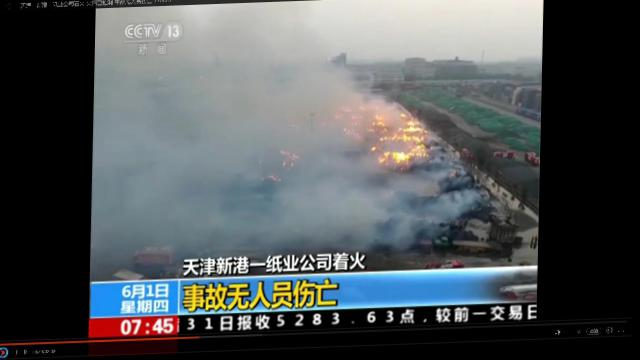fire: (390, 152, 410, 166), (412, 148, 426, 160), (380, 154, 390, 167), (403, 129, 422, 135), (395, 138, 413, 144), (413, 138, 420, 145), (406, 124, 413, 130), (378, 124, 384, 128), (400, 115, 405, 118)
